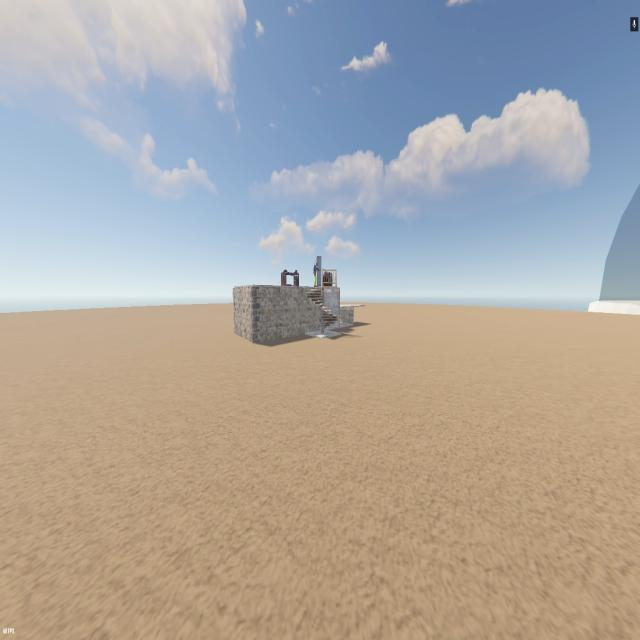Player: (312, 262, 318, 288)
